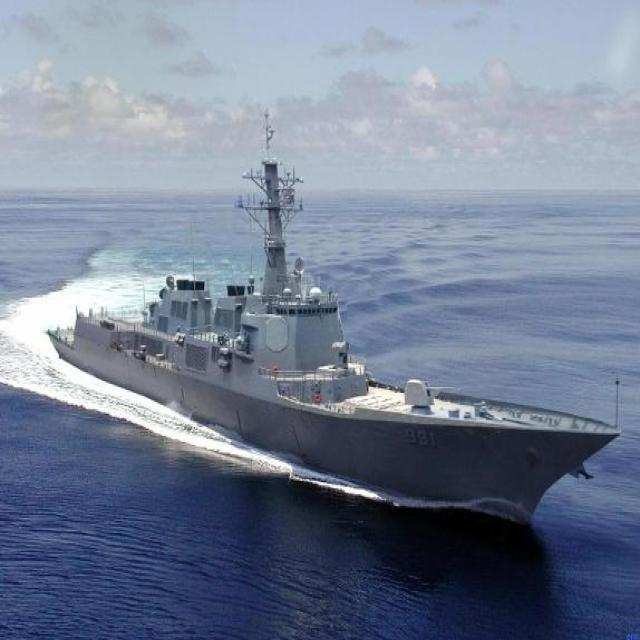navalvessels: (40, 128, 625, 524)
